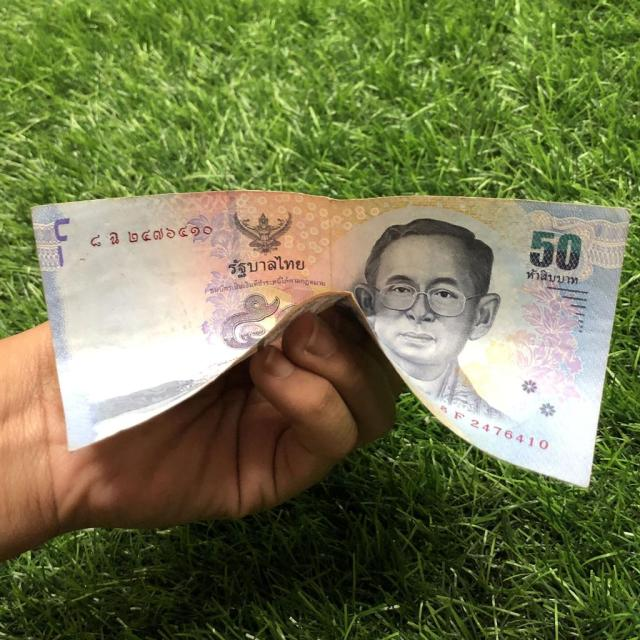THAI50: (32, 191, 629, 487)
